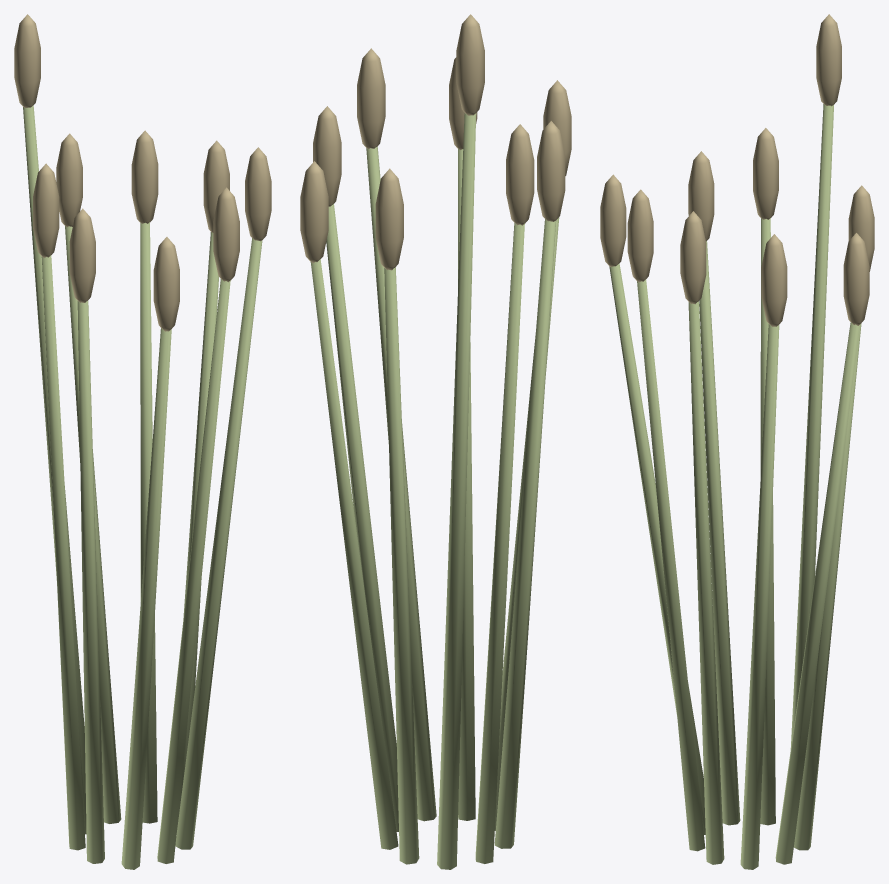
File: reeds.glb
The picture shows the model from 3 angles, left to right: view 1: azimuth 30°, elevation 25°; view 2: azimuth 150°, elevation 25°; view 3: azimuth 270°, elevation 25°; orthographic projection. The views are drawn at different scales.
Visible parts, largest first — view 1: org_reeds; view 2: org_reeds; view 3: org_reeds.
Boxes of the visible parts, x1,y1,x2,y2 form: org_reeds: [14, 14, 271, 869]; org_reeds: [300, 14, 571, 869]; org_reeds: [600, 14, 874, 869].
Size of the model in its own units: 0.2914 by 1.16 by 0.3616.
